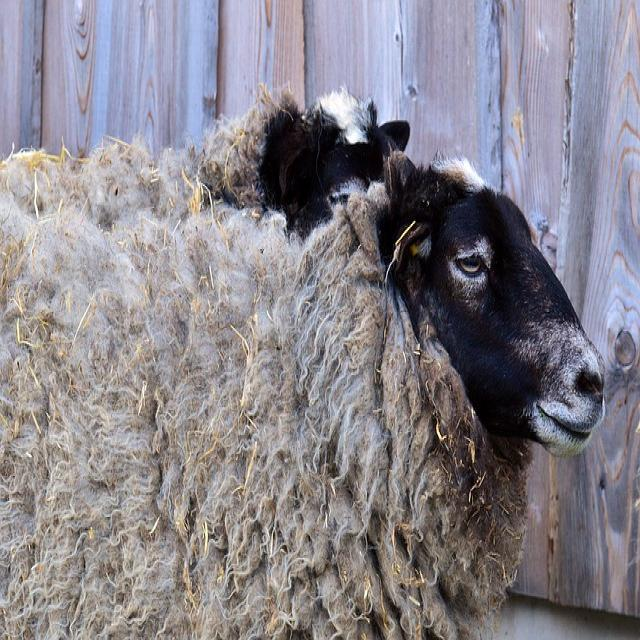sheep: (194, 82, 410, 246)
